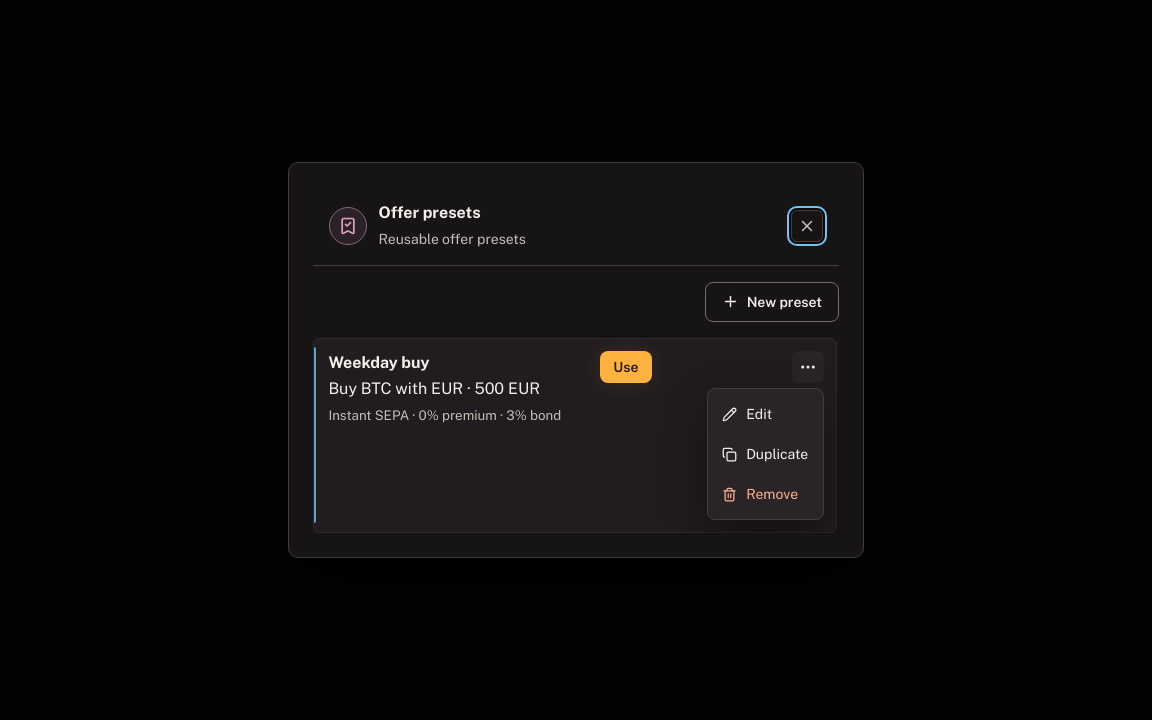
OfferPresetsDialog › moves focus into preset removal confirmation
Click the button "Remove". click: {"x": 765, "y": 494}
box: [713, 474, 818, 514]
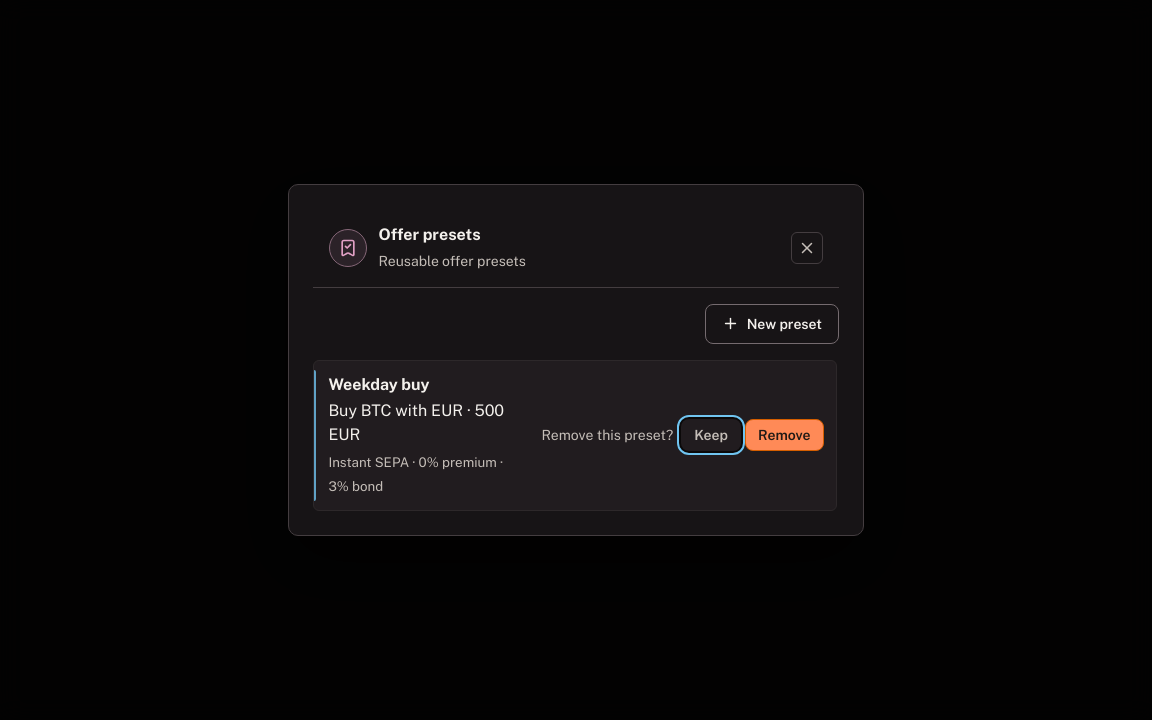
Now the text "Remove this preset?" is shown, box [542, 423, 673, 447]
